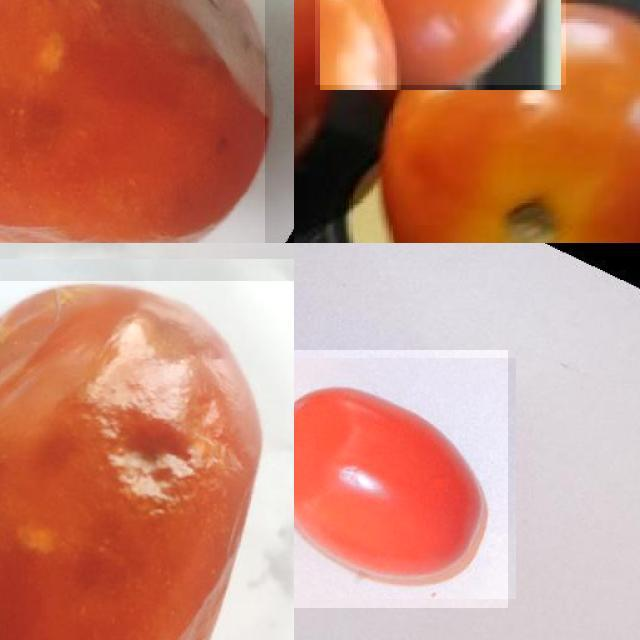Fresh Tomato: (378, 0, 640, 243), (294, 350, 508, 607), (314, 0, 566, 85)
Rotten Tomato: (0, 281, 294, 640), (0, 0, 264, 243)
